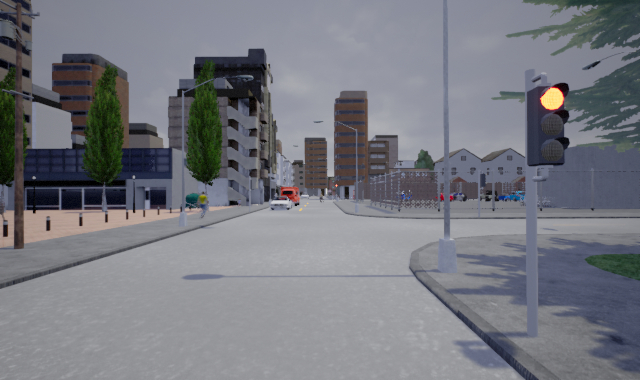pedestrian: (196, 189, 210, 218)
traffic_light: (526, 83, 570, 168)
vehicle: (276, 186, 300, 206), (269, 195, 292, 211), (502, 189, 526, 203), (477, 189, 498, 203), (448, 191, 466, 203)
